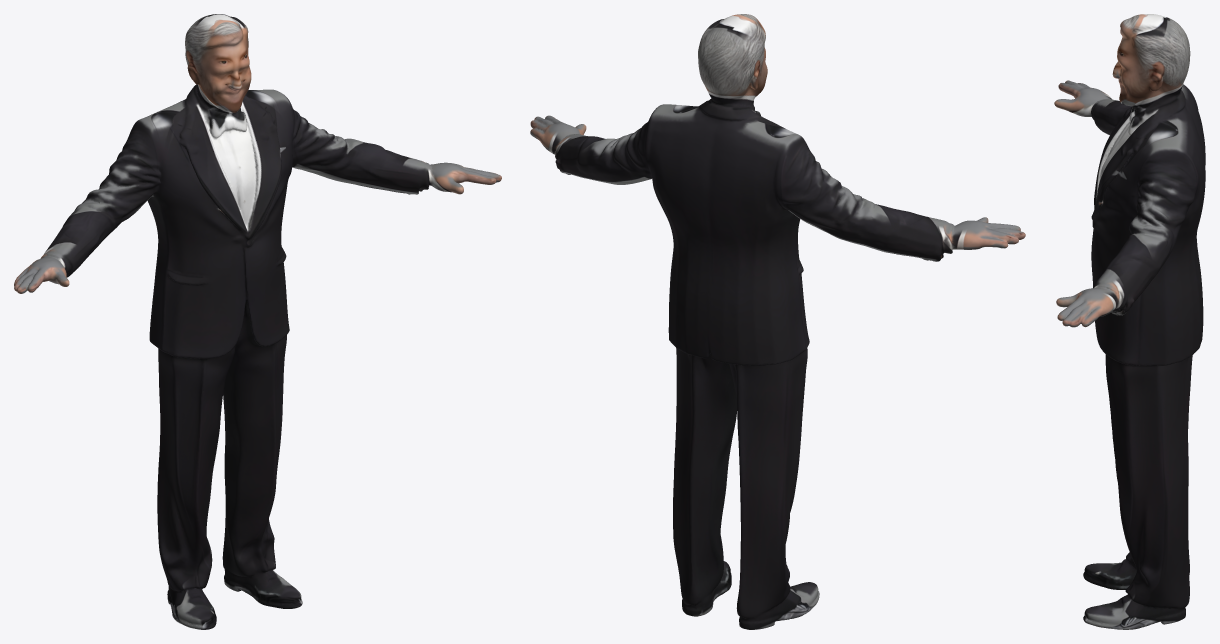
File: ann.glb
3 views of the same model, side by side, from view 1: azimuth 30°, elevation 25°; view 2: azimuth 150°, elevation 25°; view 3: azimuth 270°, elevation 25° (orthographic).
Parts seen in each view (by area): view 1: tripo_node_623d6e0d-df69-4983-b7fe-9398e1251d48; view 2: tripo_node_623d6e0d-df69-4983-b7fe-9398e1251d48; view 3: tripo_node_623d6e0d-df69-4983-b7fe-9398e1251d48.
Boxes of the visible parts, box(x1,y1,x2,y2) form: tripo_node_623d6e0d-df69-4983-b7fe-9398e1251d48: box(14, 14, 501, 629); tripo_node_623d6e0d-df69-4983-b7fe-9398e1251d48: box(530, 14, 1025, 629); tripo_node_623d6e0d-df69-4983-b7fe-9398e1251d48: box(1054, 14, 1205, 629).
Size of the model in its own units: 0.8716 by 1 by 0.2339.
Materials: 1 (1 with a texture image).
